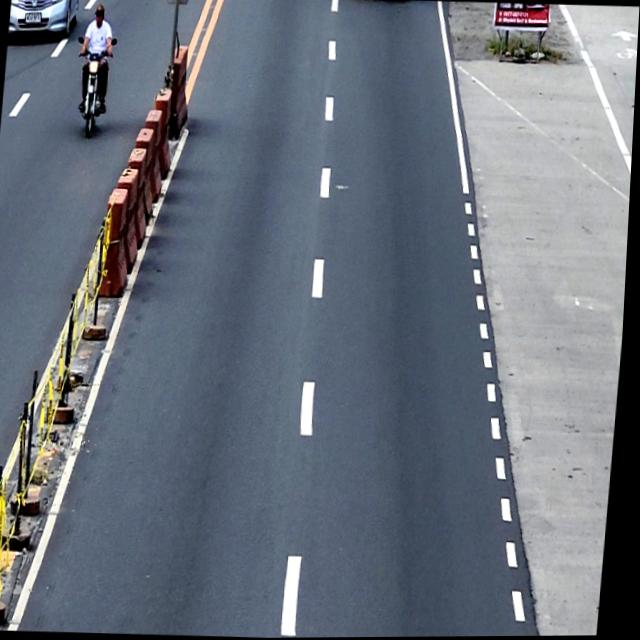Car: (7, 0, 79, 42)
License-Plate: (23, 9, 42, 25)
Motorcycle: (70, 34, 118, 139)
